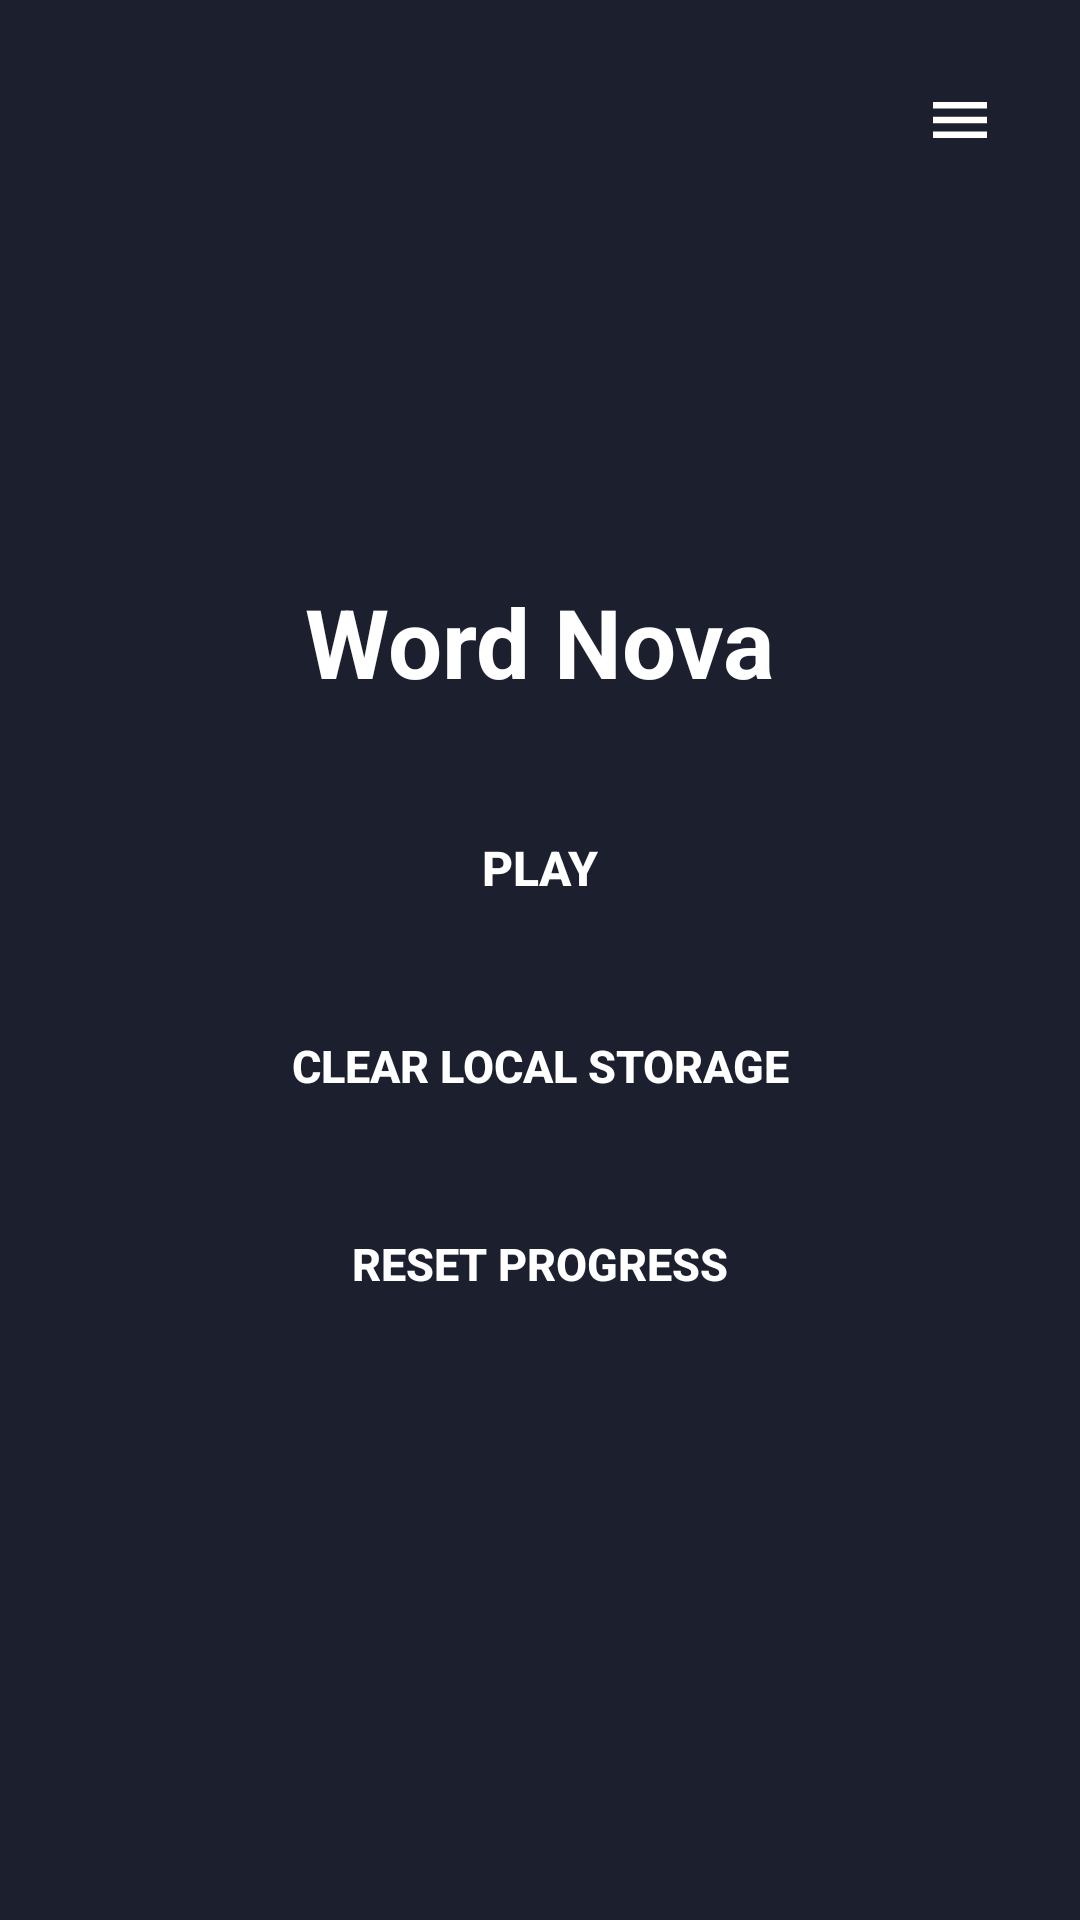

Screen size 1080w x 1920h. Icon name, then its center in pixels as (x,y):
Open menu: (960,120)
